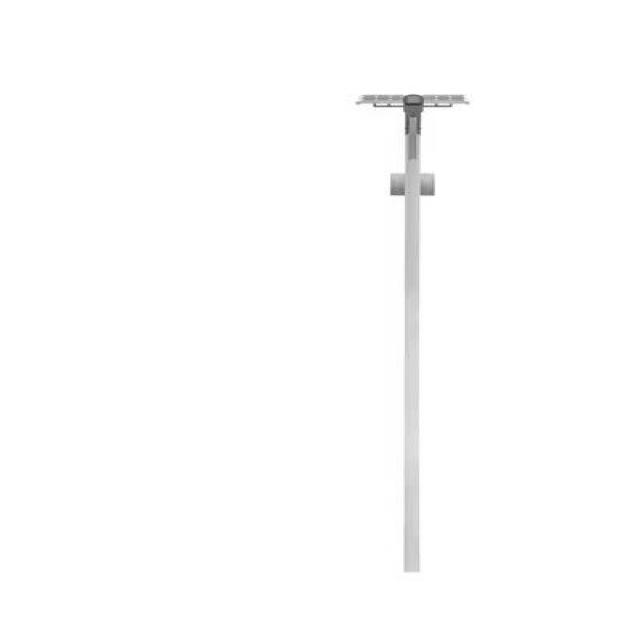Pole: (358, 95, 468, 572)
